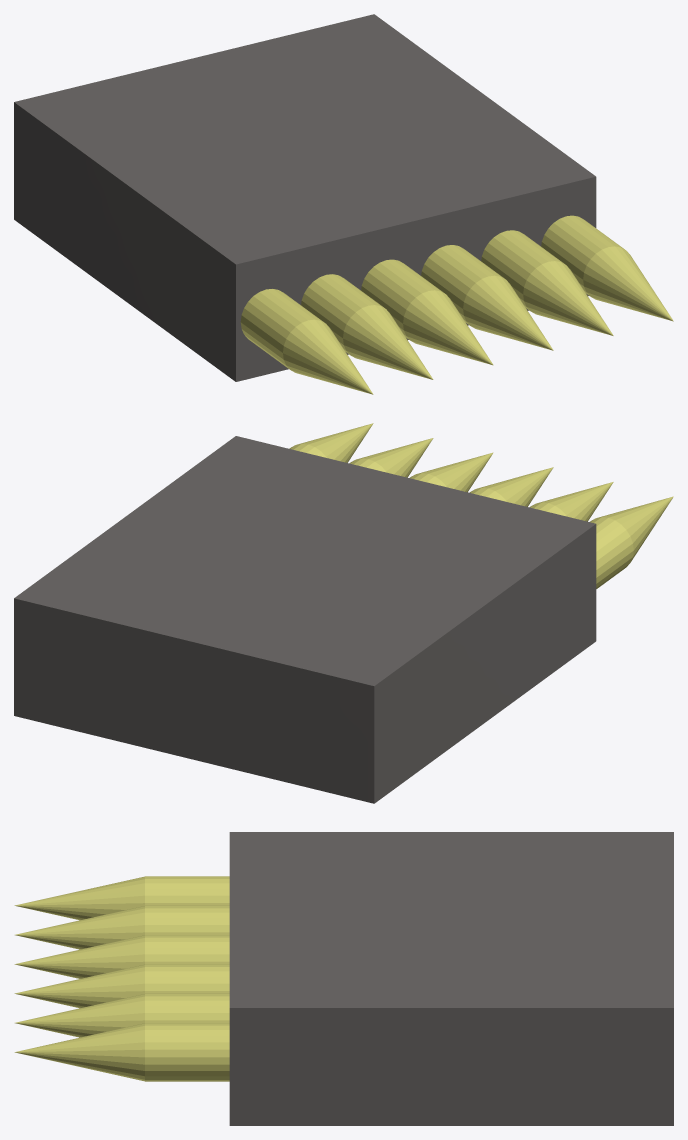
The model's file is SRAmmo.glb.
The picture shows the model from 3 angles, top to bottom: view 1: azimuth 30°, elevation 25°; view 2: azimuth 150°, elevation 25°; view 3: azimuth 270°, elevation 25°; orthographic projection.
Visible parts, largest first — view 1: SRAmmo; view 2: SRAmmo; view 3: SRAmmo.
Part boxes in pixels (x1,y1,x2,y2): SRAmmo: (14,14,673,394); SRAmmo: (14,423,673,803); SRAmmo: (14,832,673,1125).
Bounding box in the file's own units: 0.092 × 0.0287 × 0.1458.
Materials: 1 (1 with a texture image).
